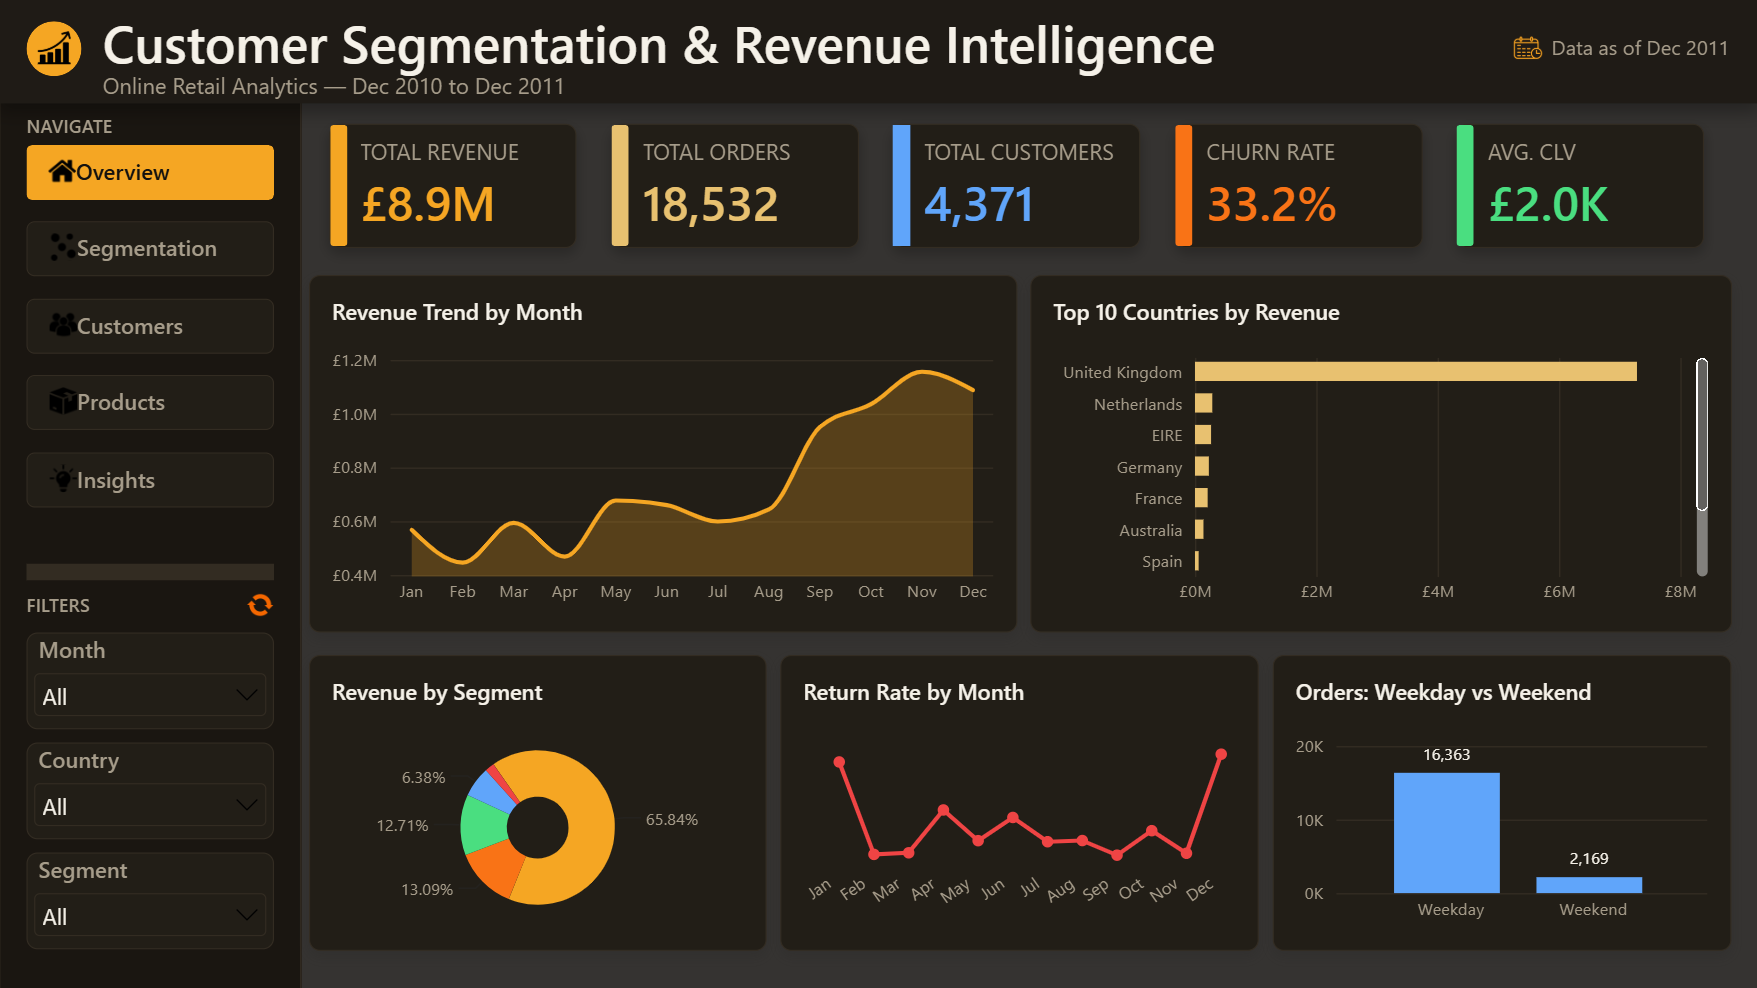

The dashboard page shown, as its layout file describes it:
{"tool":"powerbi","page":{"name":"Dashboard","canvas":[1280,720],"ordinal":0},"visuals":[{"type":"shape","box":[0,70,220,650],"z":0},{"type":"shape","box":[0,0,1280,75],"z":1000},{"type":"textbox","box":[75,5,830,51.5],"z":2000},{"type":"shape","box":[20,15,40,40],"z":3000},{"type":"image","box":[28,23,24,24],"z":4000},{"type":"textbox","box":[75,51,700,27],"z":5000},{"type":"image","box":[1100,23,24,24],"z":6000},{"type":"textbox","box":[1129,24,145,25],"z":7000},{"type":"shape","box":[20,410,180,12],"z":8000},{"type":"textbox","box":[20,82,180,19],"z":9000},{"type":"textbox","box":[20,430,180,19],"z":10000},{"type":"actionButton","title":"Btn_Insights_Default","box":[20,329,180,40],"z":12000},{"type":"actionButton","title":"Btn_Segmentation_Default","box":[20,161,180,40],"z":13000},{"type":"actionButton","title":"Btn_Customers_Default","box":[20,217,180,40],"z":14000},{"type":"actionButton","title":"Btn_Products_Default","box":[20,273,180,40],"z":15000},{"type":"actionButton","title":"Btn_Overview_Active","box":[20,105.5,180,40],"z":16000},{"type":"slicer","fields":{"Values":["Dim_Date.MonthName"]},"box":[20.2,460,180,70],"z":23000},{"type":"cardVisual","title":"KPI_Overview_TotalRevenue","fields":{"Data":["_Measures.Total_Revenue"]},"box":[240,90,180,90],"z":24000},{"type":"cardVisual","title":"KPI_Overview_TotalOrders","fields":{"Data":["_Measures.Total_Orders"]},"box":[445,90,180,90],"z":25000},{"type":"cardVisual","title":"KPI_Overview_TotalCustomers","fields":{"Data":["_Measures.Total_Customers"]},"box":[650,90,180,90],"z":26000},{"type":"cardVisual","title":"KPI_Overview_ChurnRate","fields":{"Data":["_Measures.Churn_Rate%"]},"box":[855,90,180,90],"z":27000},{"type":"cardVisual","title":"KPI_Overview_AvgCLV","fields":{"Data":["_Measures.Average_CLV"]},"box":[1060,90,180,90],"z":28000},{"type":"shape","title":"Overview_Strip1","box":[240.5,91,12.5,88],"z":29000},{"type":"shape","title":"Overview_Strip2","box":[445,91,12.5,88],"z":30000},{"type":"shape","title":"Overview_Strip4","box":[855,91,12.5,88],"z":31000},{"type":"shape","title":"Overview_Strip5","box":[1060,91,12.5,88],"z":32000},{"type":"shape","title":"Overview_Strip3","box":[650,91,12.5,88],"z":33000},{"type":"areaChart","title":"Revenue Trend by Month","fields":{"Category":["Dim_Date.MonthName"],"Y":["_Measures.Total_Revenue"]},"box":[225,200,515,260],"z":34000},{"type":"clusteredBarChart","title":"Top 10 Countries by Revenue","fields":{"Category":["Dim_Countries.Country"],"Y":["_Measures.Total_Revenue"]},"box":[750,200,510,260],"z":35000},{"type":"donutChart","title":"Revenue by Segment","fields":{"Category":["Dim_Customers.Segment"],"Y":["_Measures.Total_Revenue"]},"box":[225,476.1,333,215],"z":36000},{"type":"clusteredColumnChart","title":"Orders: Weekday vs Weekend","fields":{"Category":["Dim_Date.Day Type"],"Y":["_Measures.Total_Orders"]},"box":[926.3,476.1,333.3,215],"z":37000},{"type":"lineChart","title":"Return Rate by Month","fields":{"Category":["Dim_Date.MonthName"],"Y":["_Measures.Return_Rate"]},"box":[568,476.1,348,215],"z":38000},{"type":"image","box":[180.3,429.9,20,20],"z":102000},{"type":"slicer","fields":{"Values":["Dim_Countries.Country"]},"box":[20.4,540,180,70],"z":102500},{"type":"slicer","fields":{"Values":["Dim_Customers.Segment"]},"box":[20.4,620,180,70],"z":103000}]}

Visuals, with their boxes in screenshot pixels (x1, y1, x2, y2), scaled from the page's 1280x720 canvas onto the 1757x988 screenshot:
shape: Rect(0, 96, 302, 987)
shape: Rect(0, 0, 1756, 103)
textbox: Rect(103, 7, 1242, 78)
shape: Rect(27, 21, 82, 75)
image: Rect(38, 32, 71, 64)
textbox: Rect(103, 70, 1064, 107)
image: Rect(1510, 32, 1543, 64)
textbox: Rect(1550, 33, 1749, 67)
shape: Rect(27, 563, 275, 579)
textbox: Rect(27, 113, 275, 139)
textbox: Rect(27, 590, 275, 616)
"Btn_Insights_Default" actionButton: Rect(27, 451, 275, 506)
"Btn_Segmentation_Default" actionButton: Rect(27, 221, 275, 276)
"Btn_Customers_Default" actionButton: Rect(27, 298, 275, 353)
"Btn_Products_Default" actionButton: Rect(27, 375, 275, 430)
"Btn_Overview_Active" actionButton: Rect(27, 145, 275, 200)
slicer - Dim_Date.MonthName: Rect(28, 631, 275, 727)
"KPI_Overview_TotalRevenue" cardVisual: Rect(329, 124, 577, 247)
"KPI_Overview_TotalOrders" cardVisual: Rect(611, 124, 858, 247)
"KPI_Overview_TotalCustomers" cardVisual: Rect(892, 124, 1139, 247)
"KPI_Overview_ChurnRate" cardVisual: Rect(1174, 124, 1421, 247)
"KPI_Overview_AvgCLV" cardVisual: Rect(1455, 124, 1702, 247)
"Overview_Strip1" shape: Rect(330, 125, 347, 246)
"Overview_Strip2" shape: Rect(611, 125, 628, 246)
"Overview_Strip4" shape: Rect(1174, 125, 1191, 246)
"Overview_Strip5" shape: Rect(1455, 125, 1472, 246)
"Overview_Strip3" shape: Rect(892, 125, 909, 246)
"Revenue Trend by Month" areaChart: Rect(309, 274, 1016, 631)
"Top 10 Countries by Revenue" clusteredBarChart: Rect(1029, 274, 1730, 631)
"Revenue by Segment" donutChart: Rect(309, 653, 766, 948)
"Orders: Weekday vs Weekend" clusteredColumnChart: Rect(1271, 653, 1729, 948)
"Return Rate by Month" lineChart: Rect(780, 653, 1257, 948)
image: Rect(247, 590, 275, 617)
slicer - Dim_Countries.Country: Rect(28, 741, 275, 837)
slicer - Dim_Customers.Segment: Rect(28, 851, 275, 947)
